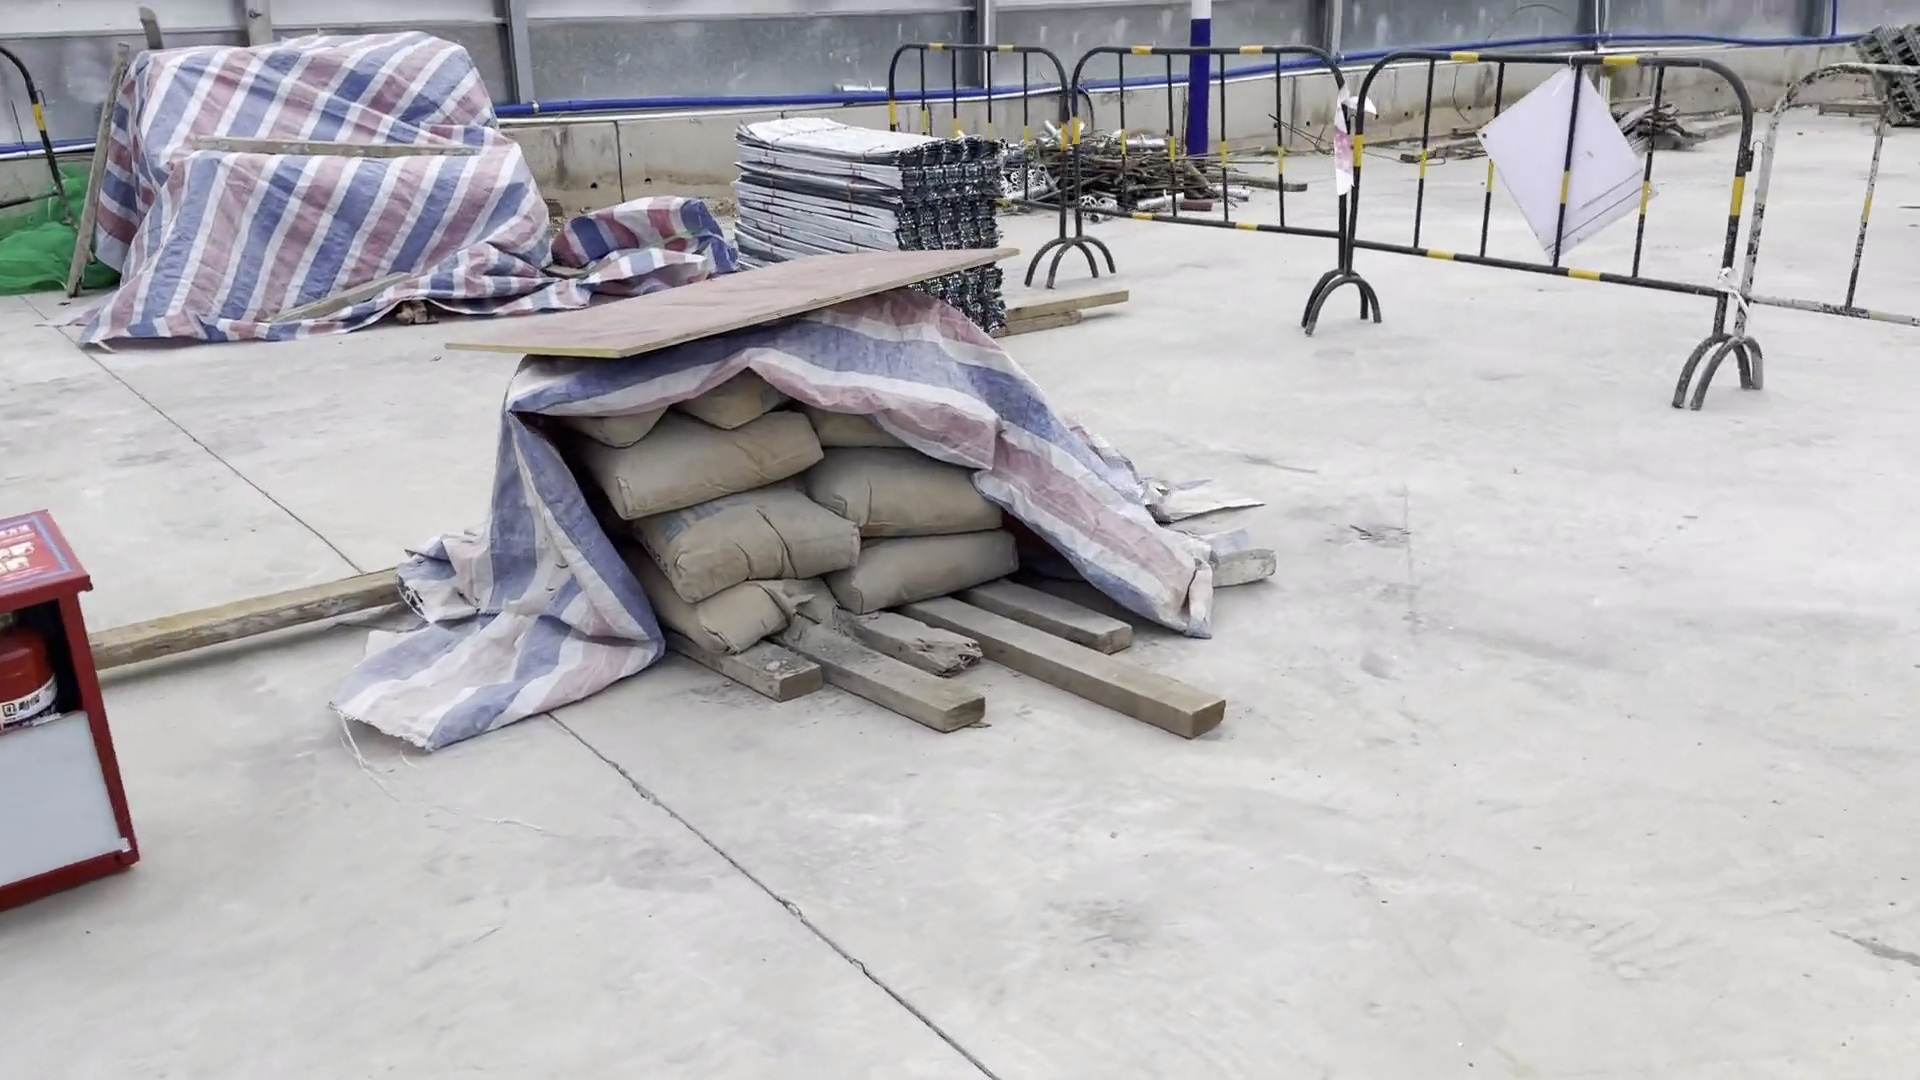board: (444, 251, 1095, 368)
fence: (885, 34, 1920, 436)
